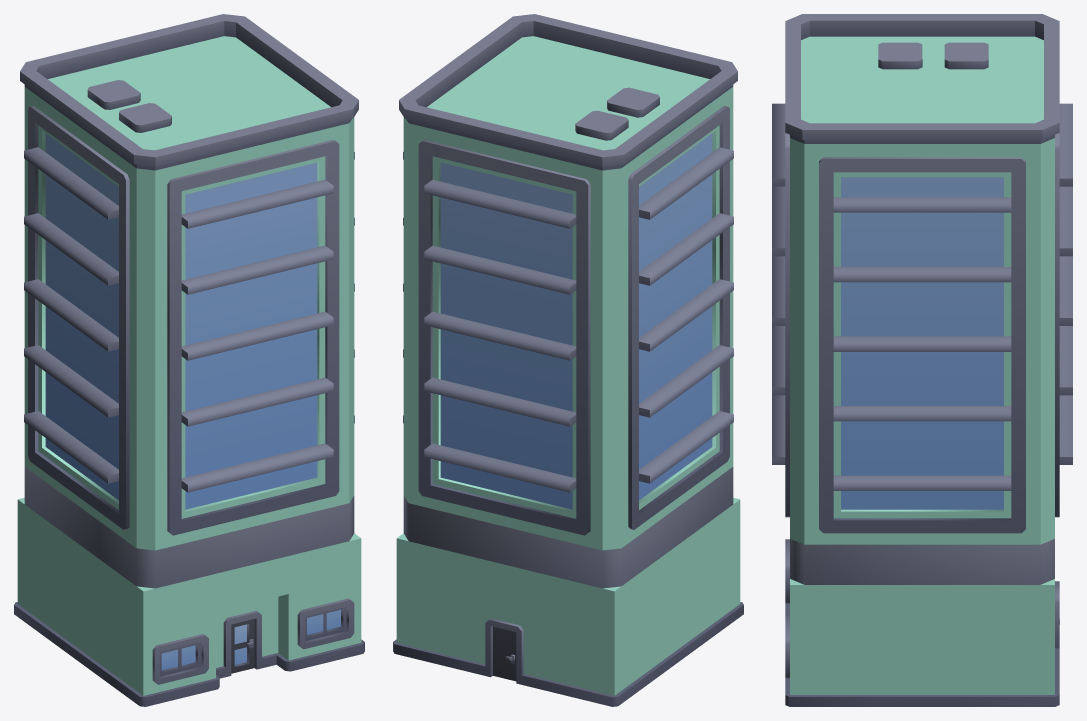
The model's file is skyscraperA1.glb.
3 renders of one model, left to right at view 1: azimuth 30°, elevation 25°; view 2: azimuth 150°, elevation 25°; view 3: azimuth 270°, elevation 25°, orthographic. The views are drawn at different scales.
Visible parts, largest first — view 1: skyscraperA1; view 2: skyscraperA1; view 3: skyscraperA1.
Part boxes in pixels (x1,y1,x2,y2): skyscraperA1: (14,14,364,706); skyscraperA1: (393,14,743,706); skyscraperA1: (772,14,1072,706).
Size of the model in its own units: 1.36 by 2.88 by 1.36.
2 materials, 1 textured.
